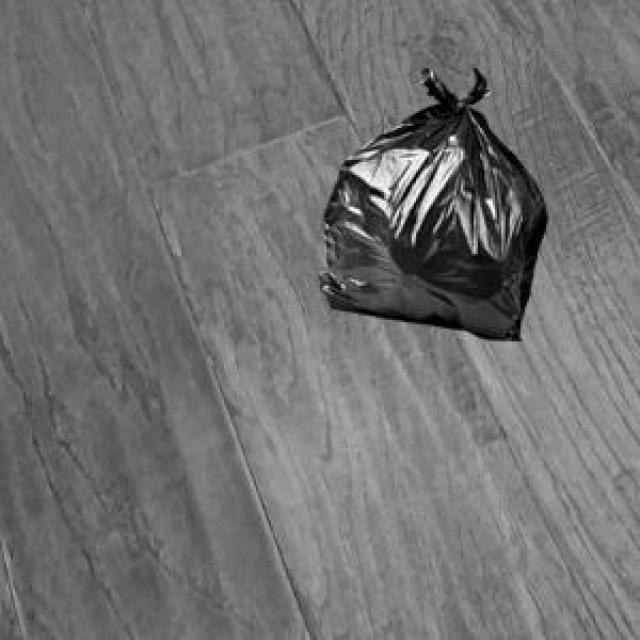miscellaneous trash: (314, 64, 544, 337)
